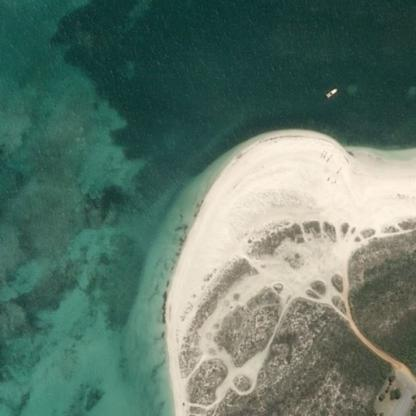ship: (322, 88, 335, 98)
